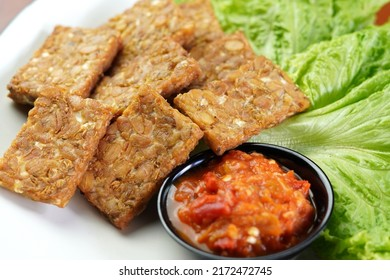Tempe: (184, 41, 303, 151), (84, 99, 188, 216), (15, 87, 108, 202), (14, 29, 113, 113), (112, 18, 181, 98)
